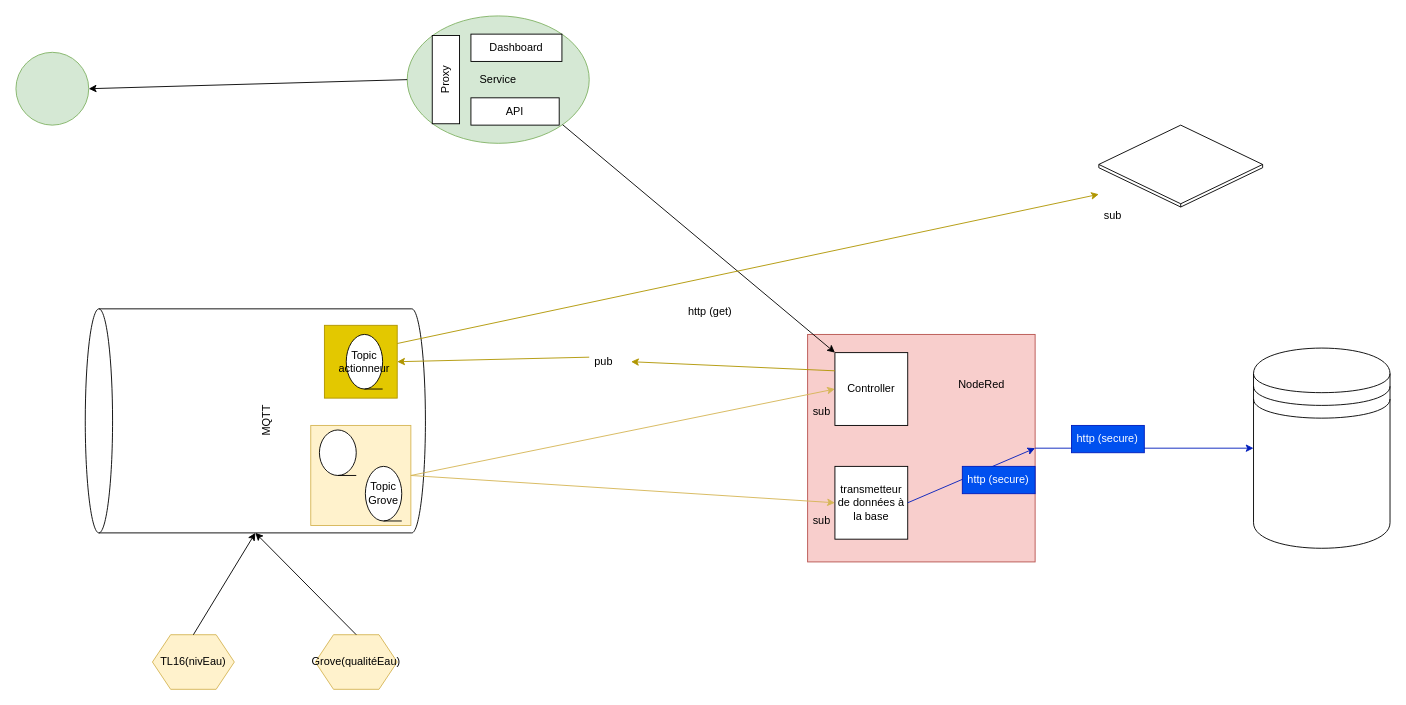
This 1406x705 diagram has some shape labels left out. The shapes that lost their labels are listed below. From the top down, each one's centre as x and y in pixels, then its label:
At (52,88): "WebService".
At (1180,165): "Actionneur".
At (337,452): "Topic TL136".
At (1321,447): "InfluxDB".
